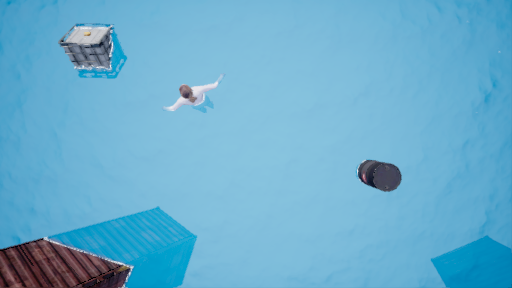person: (168, 75, 225, 122)
